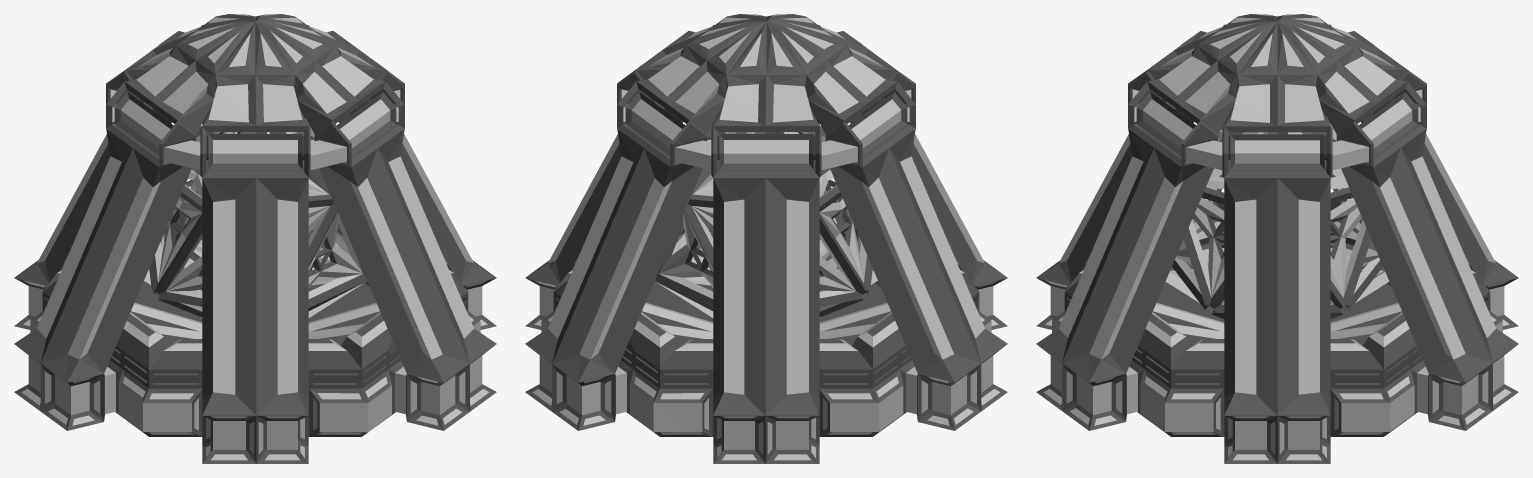
The model's file is bigreactor.dae.
3 views of the same model, side by side, from view 1: azimuth 30°, elevation 25°; view 2: azimuth 150°, elevation 25°; view 3: azimuth 270°, elevation 25° (orthographic).
Parts seen in each view (by area): view 1: BigReactor; view 2: BigReactor; view 3: BigReactor.
Boxes of the visible parts, box(x1,y1,x2,y2) form: BigReactor: box(14, 14, 496, 463); BigReactor: box(525, 14, 1007, 463); BigReactor: box(1036, 14, 1518, 463).
Size of the model in its own units: 21.49 by 20.92 by 16.13.
